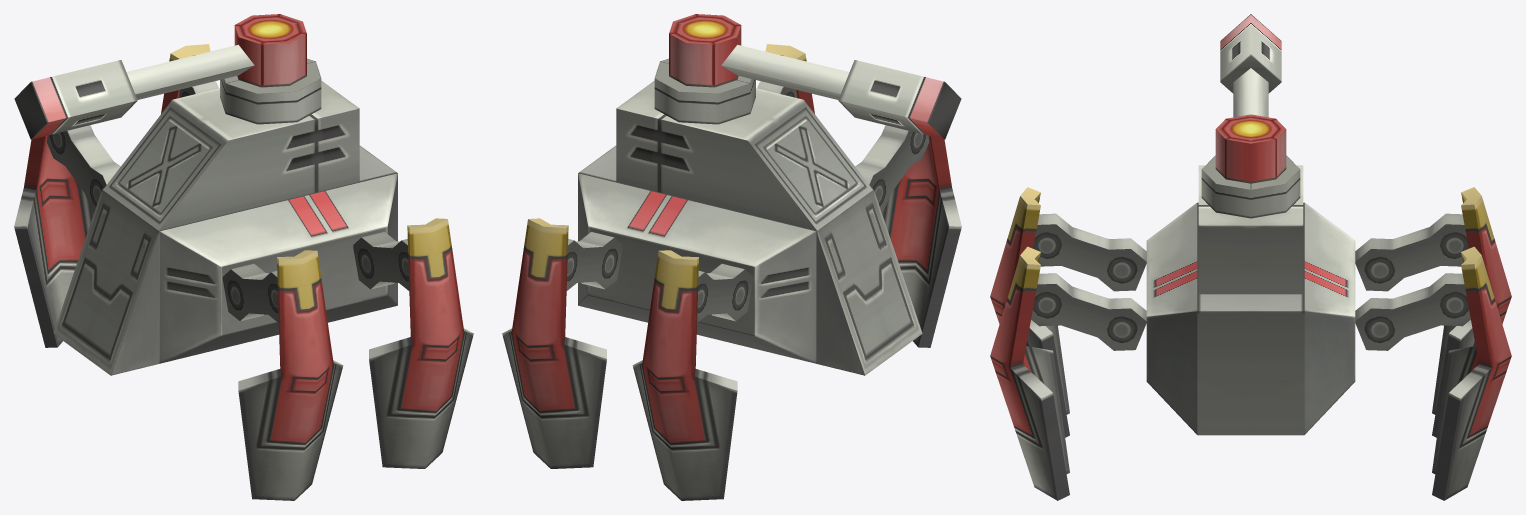
The model's file is robogun_skin.FBX.
3 views of the same model, side by side, from view 1: azimuth 30°, elevation 25°; view 2: azimuth 150°, elevation 25°; view 3: azimuth 270°, elevation 25° (orthographic). The views are drawn at different scales.
Parts seen in each view (by area): view 1: Box003, leg (×4); view 2: Box003, leg (×4); view 3: Box003, leg (×4).
Part boxes in pixels (left/top/right/bottom): Box003: left=14, top=14, right=397, bottom=375; leg (×4): left=14, top=44, right=473, bottom=500; Box003: left=578, top=14, right=961, bottom=375; leg (×4): left=502, top=44, right=961, bottom=500; Box003: left=1146, top=14, right=1355, bottom=435; leg (×4): left=990, top=187, right=1511, bottom=500.
Size of the model in its own units: 38.8 by 55.39 by 40.57.
